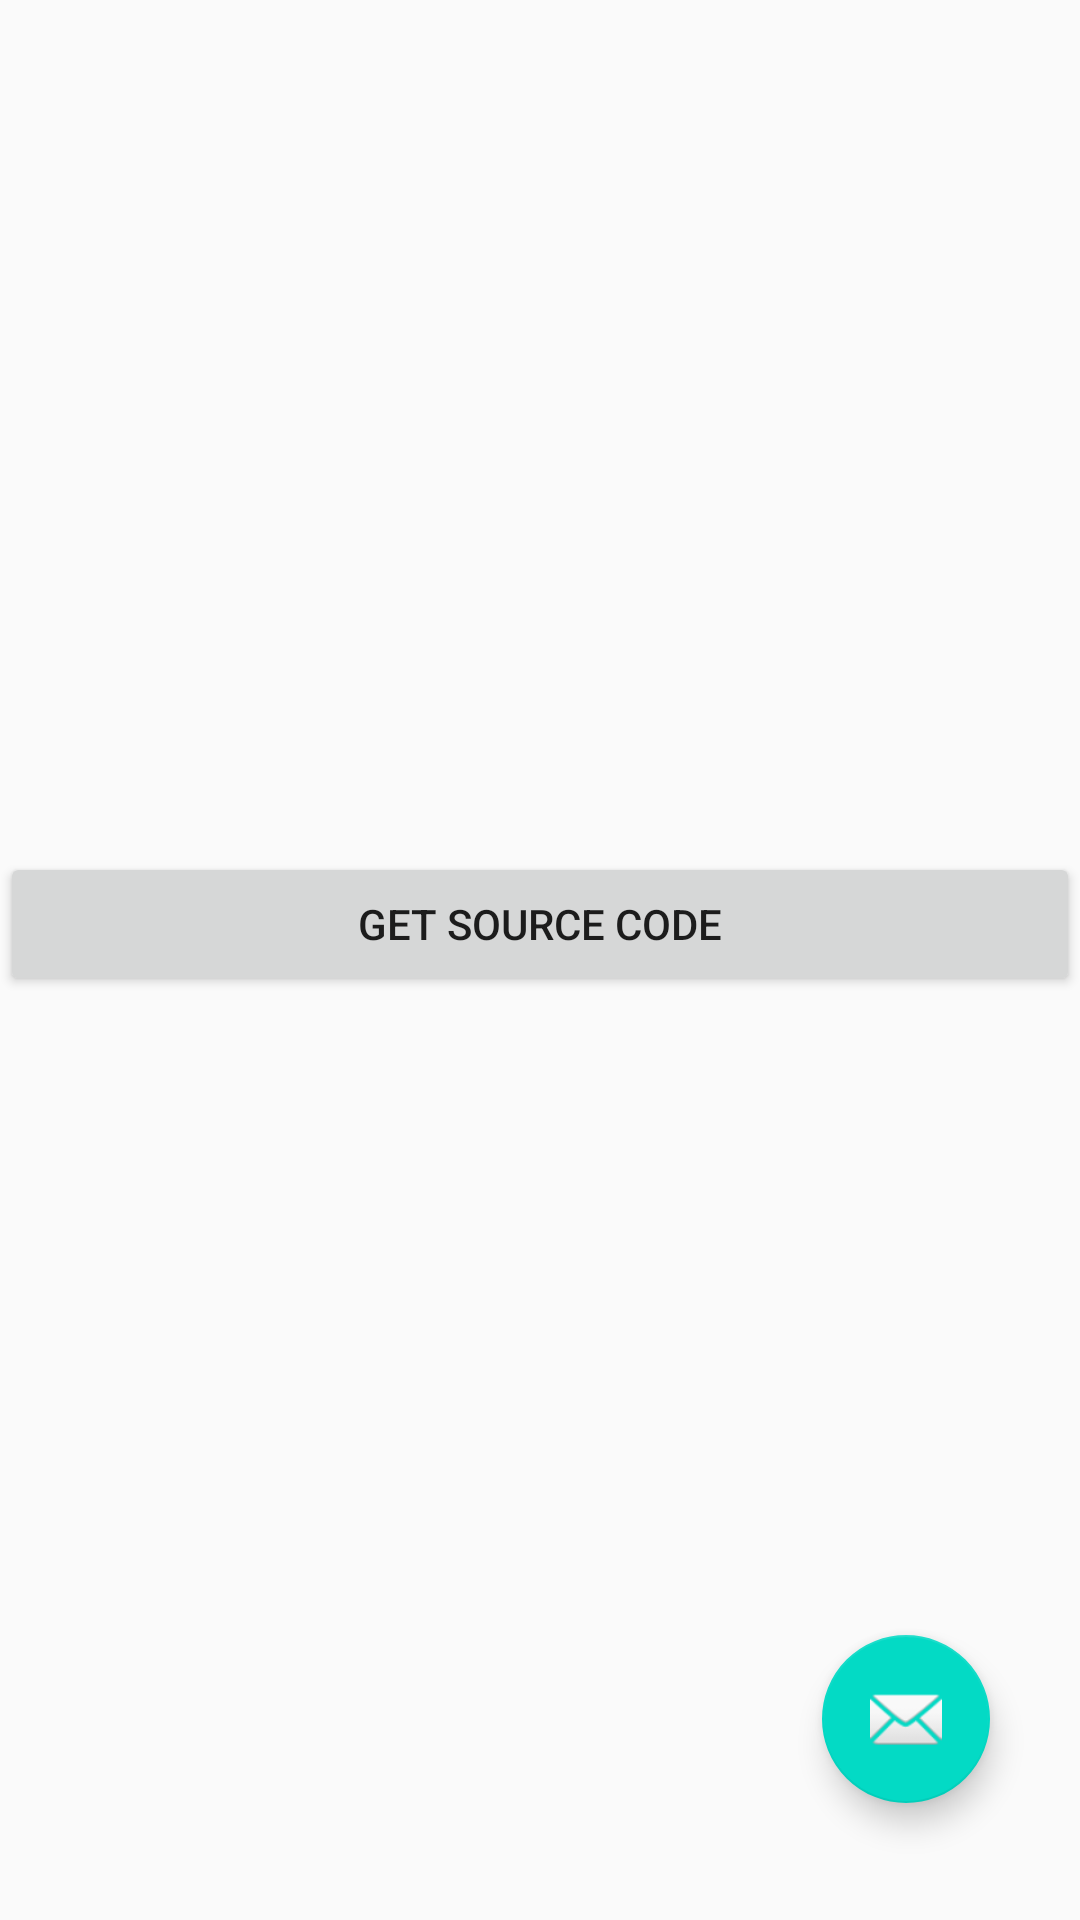

Icons on this 1080x1920 Android screen, each with its box as (x1, y1, x2, y2):
email: (822, 1635, 990, 1803)
